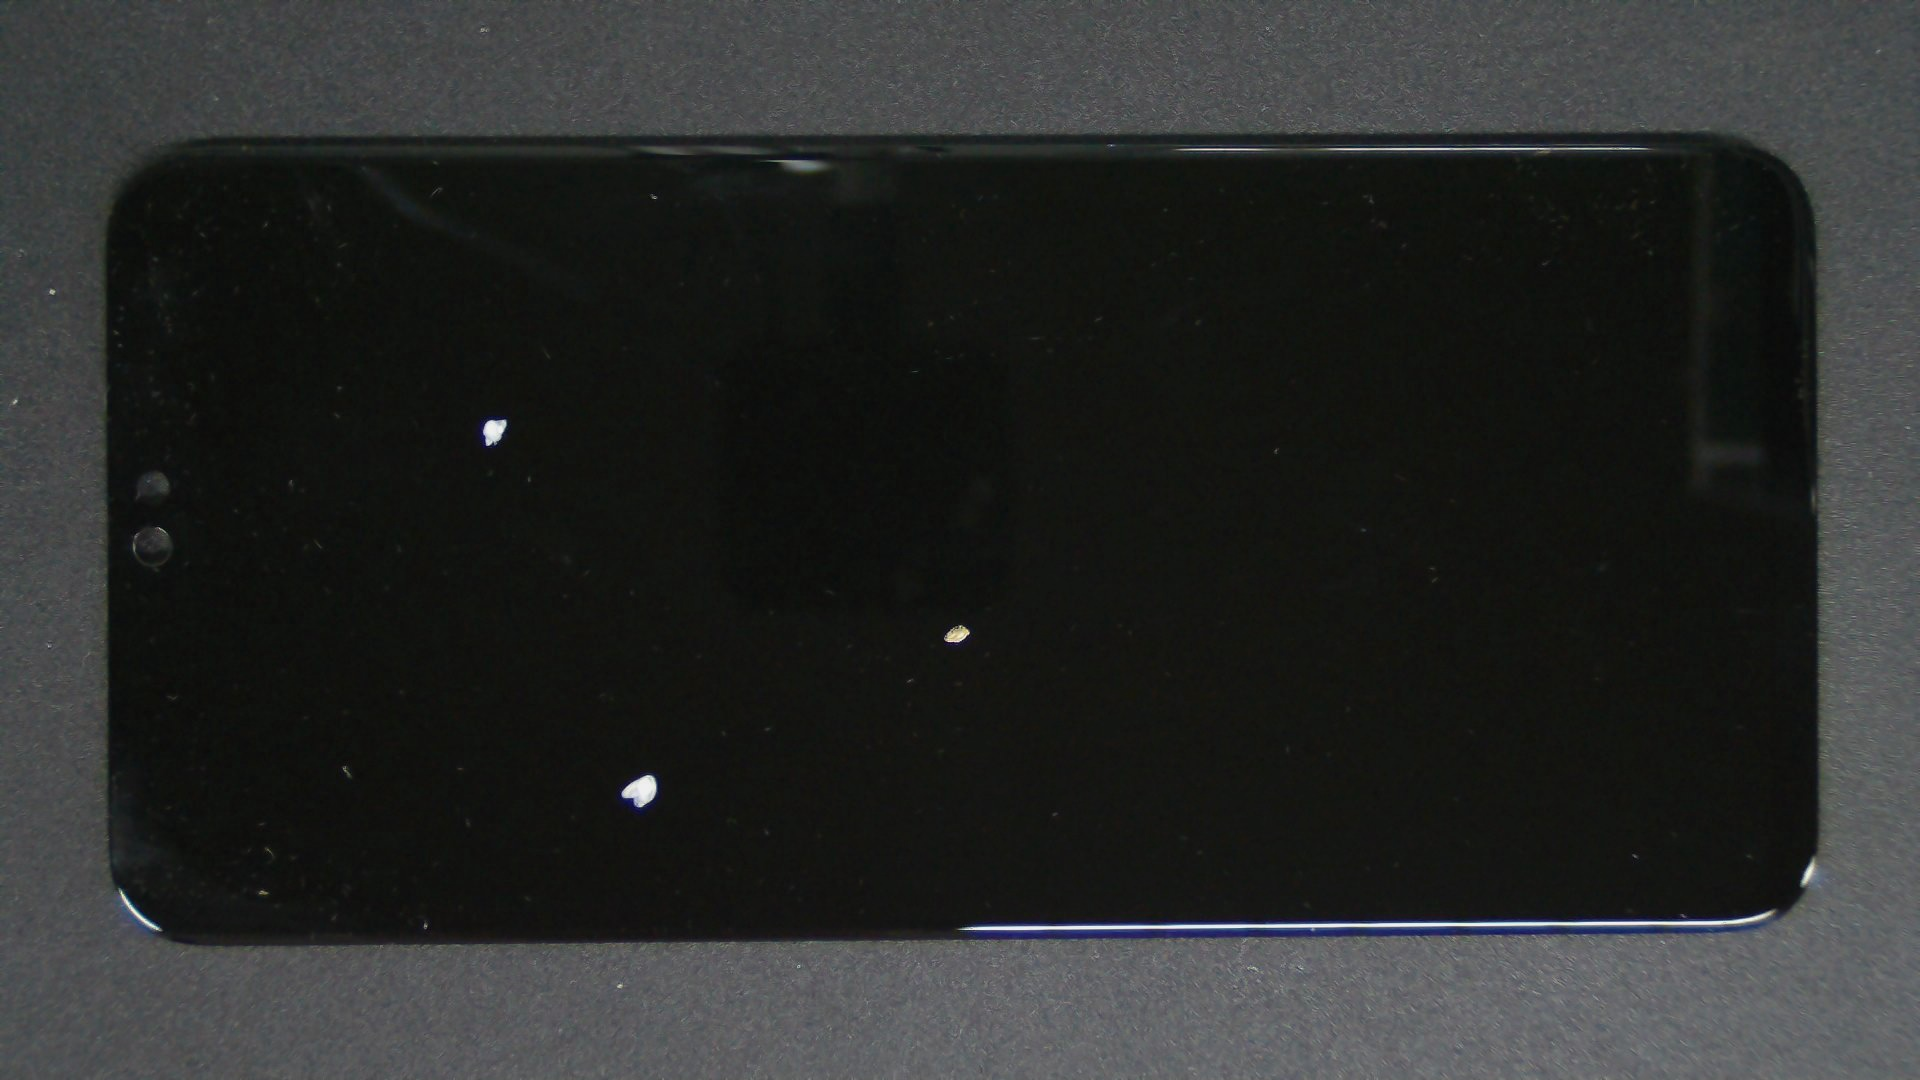oil: (480, 310, 1435, 935), (324, 386, 971, 1080), (244, 208, 732, 628)
